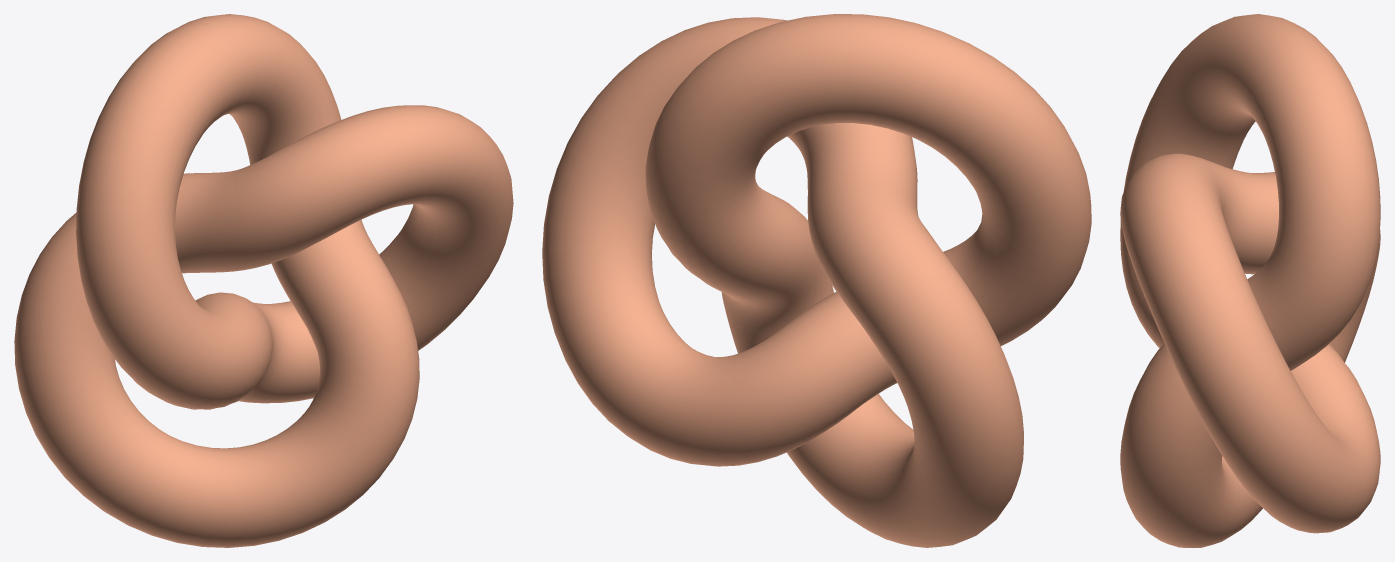
Rendered from knot.glb.
The picture shows the model from 3 angles, left to right: view 1: azimuth 30°, elevation 25°; view 2: azimuth 150°, elevation 25°; view 3: azimuth 270°, elevation 25°; orthographic projection. The views are drawn at different scales.
Bounding box in the file's own units: 3.32 × 3.47 × 1.64.
